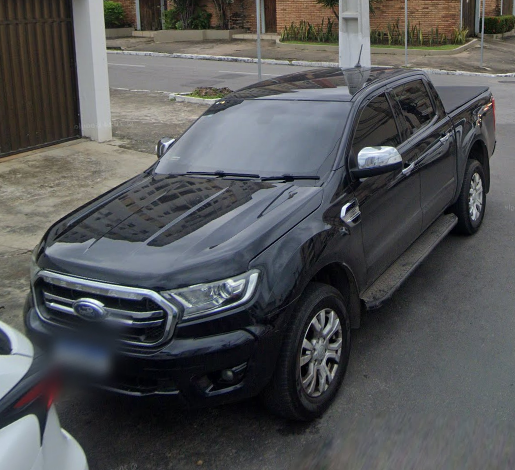car: (23, 57, 497, 434)
